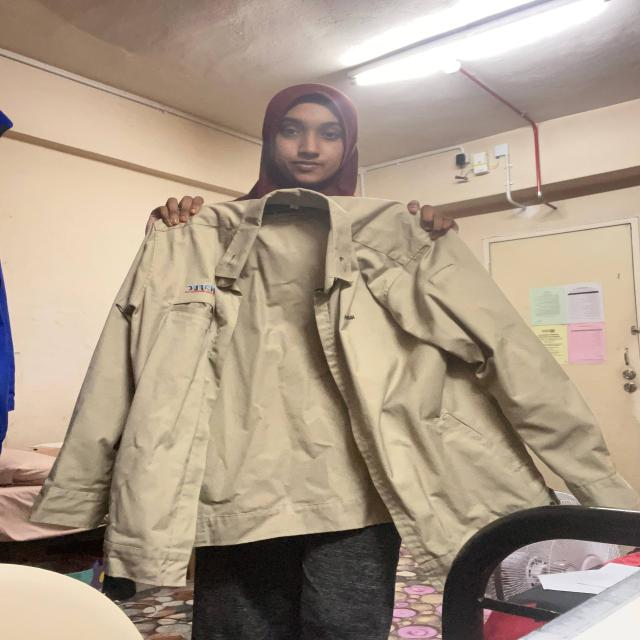person_without_labcoat: (32, 86, 638, 640)
